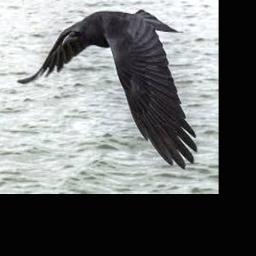Crow: (16, 7, 198, 169)
